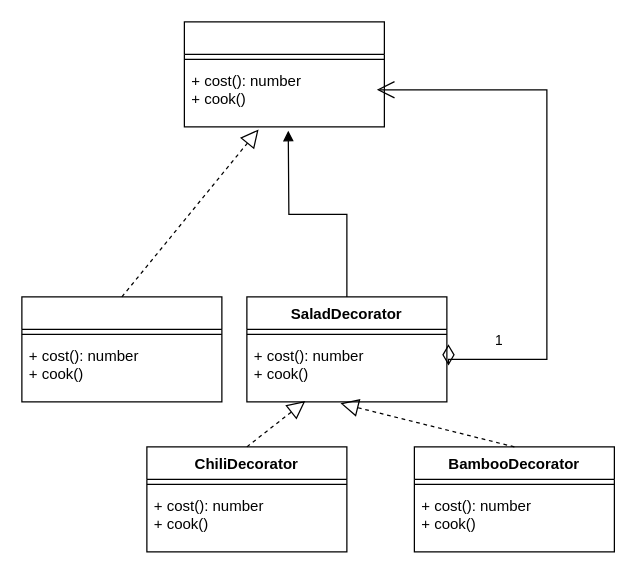
The diagram is 636 pixels wide and 578 high, and some of its shapes have lost their labels. The shapes that lost their labels are listed below. From the top down, each one's box as (x1, y1, x2, y2) in pixels, then its label:
(183, 21, 384, 127): Salad
(21, 296, 222, 402): FrenchSalad
